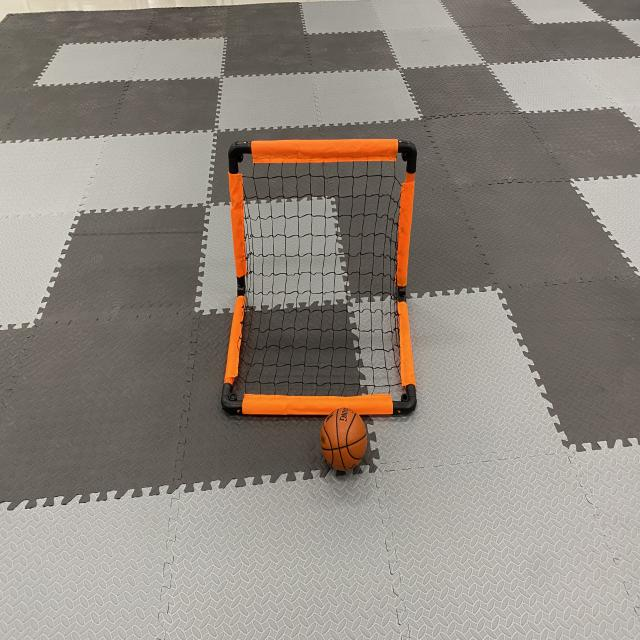ball: (316, 404, 372, 480)
gate: (216, 133, 422, 424)
